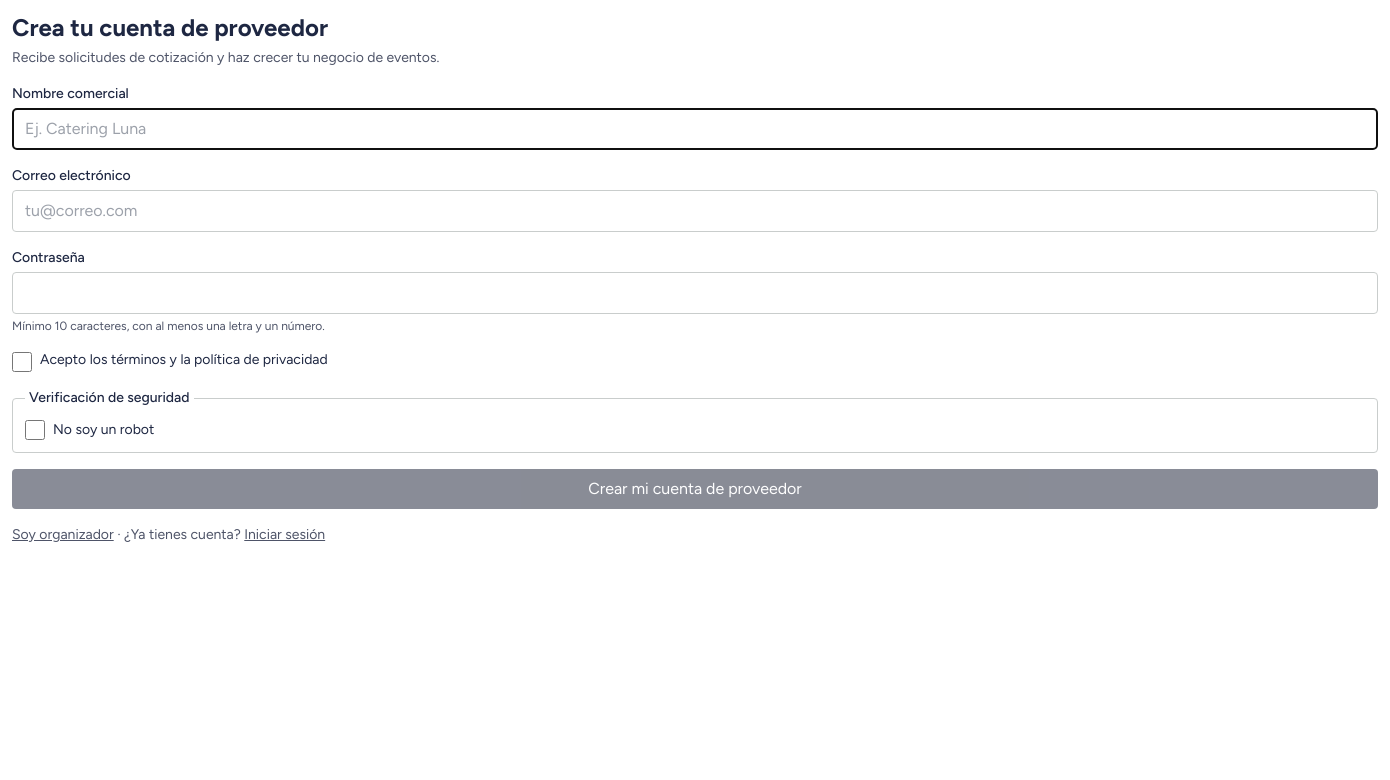
Test: US-002 FE-002/FE-003/FE-004 — flujo vendor › EC-01/SEC-001: 409 EMAIL_TAKEN → mismo mensaje neutro que el flujo organizer
The image size is (1390, 780).
Type "Catering Luna" into the field labelled "Nombre comercial" at (695, 129), box [12,108,1378,150]
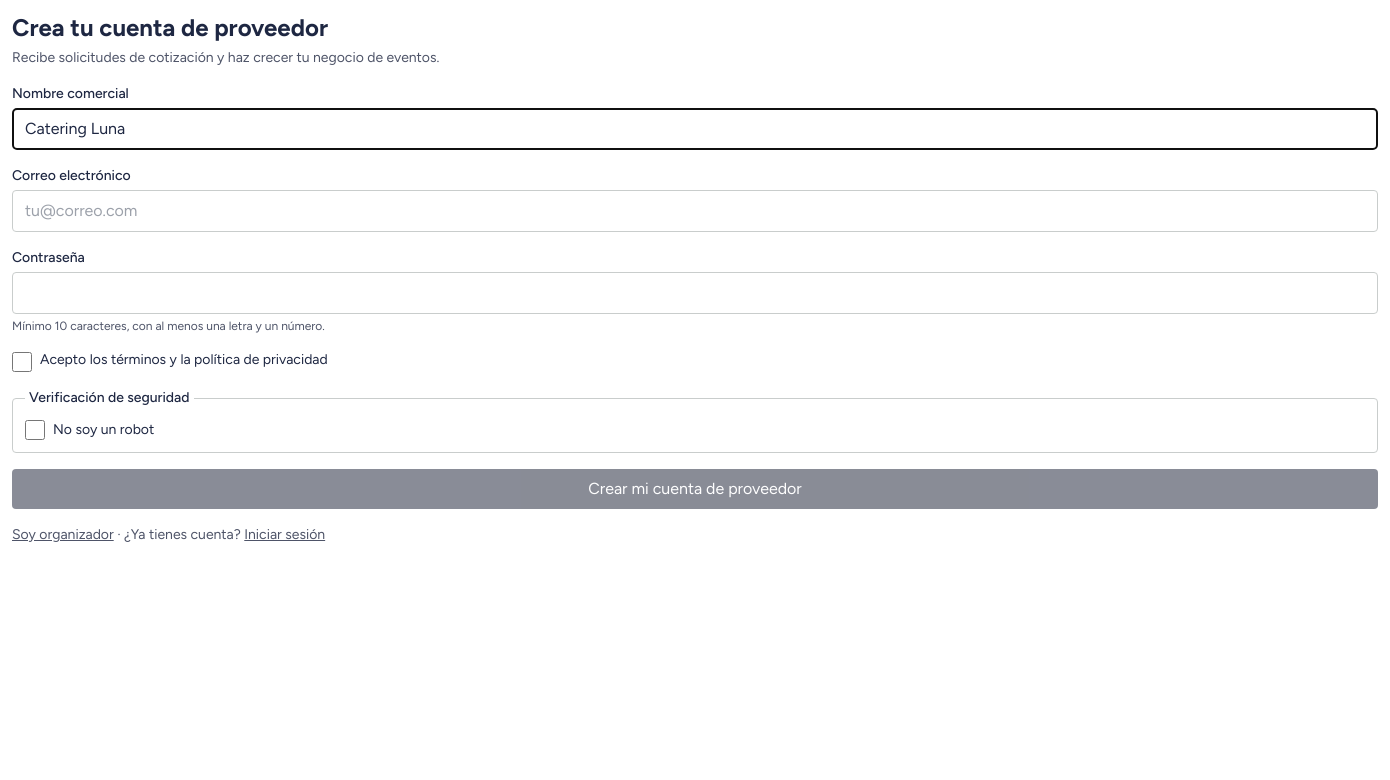
Type "luna@eventflow.test" into the field labelled "Correo electrónico" at (695, 211), box [12,190,1378,232]
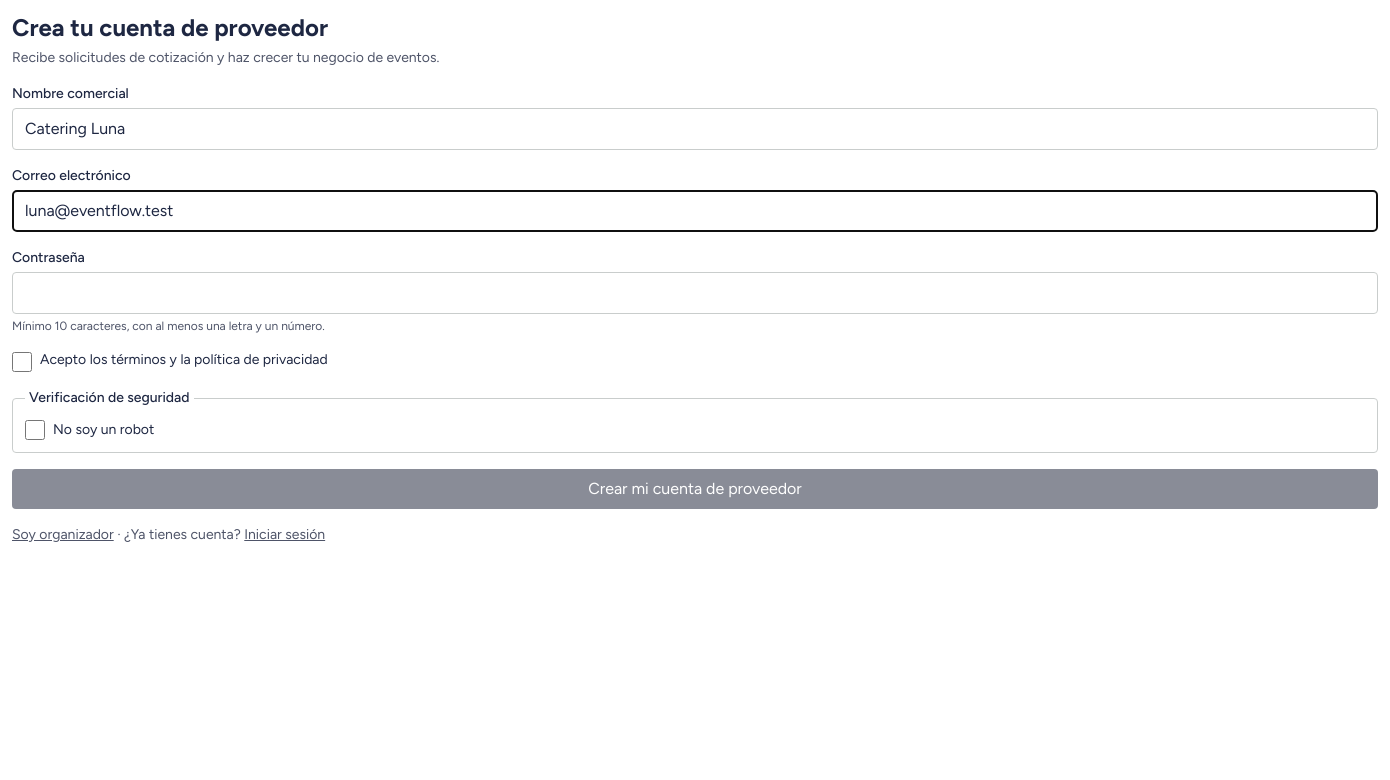
Type "segura12345" into the password field labelled "Contraseña" at (695, 293), box [12,272,1378,314]
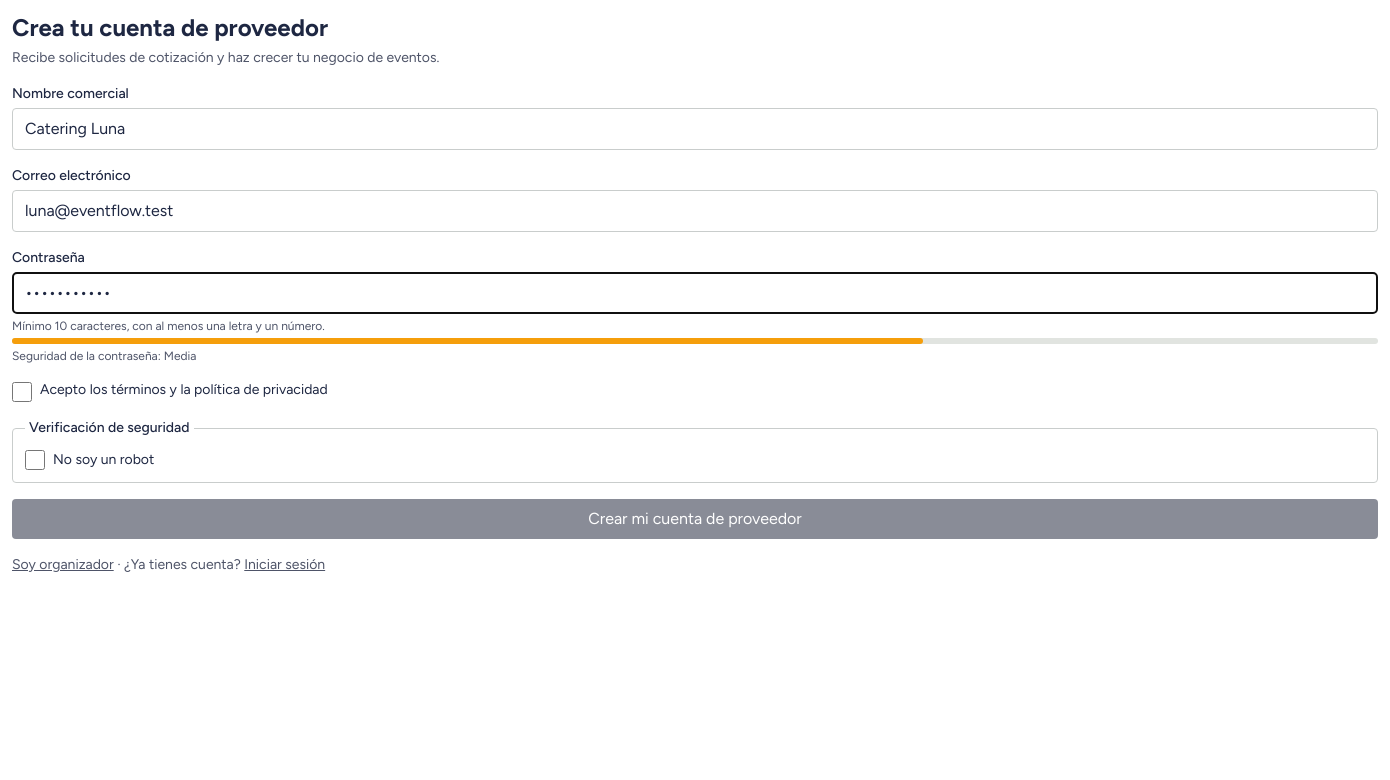
Click the checkbox labelled "Acepto los términos y la política de privacidad" at (22, 392), box [12,382,32,402]
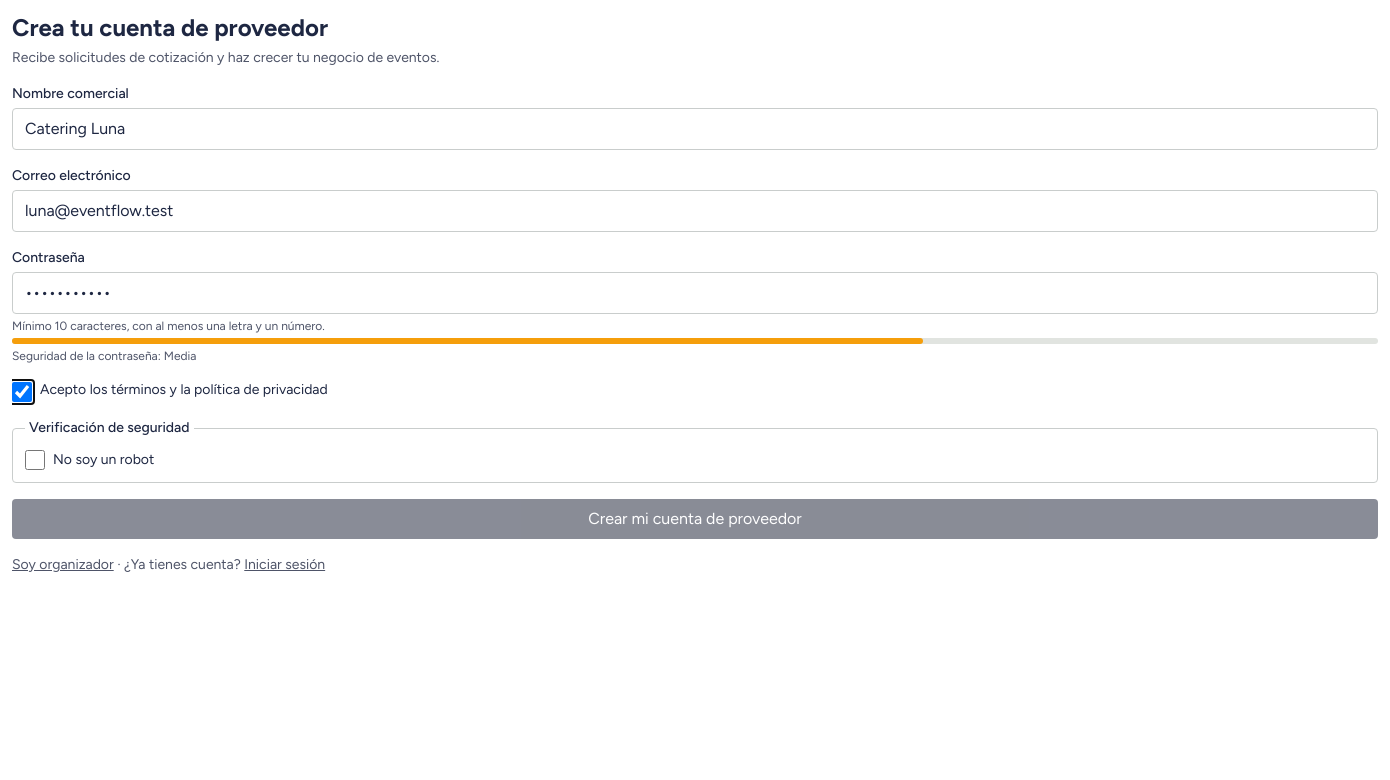
Click the checkbox labelled "No soy un robot" at (35, 460), box [25,450,45,470]
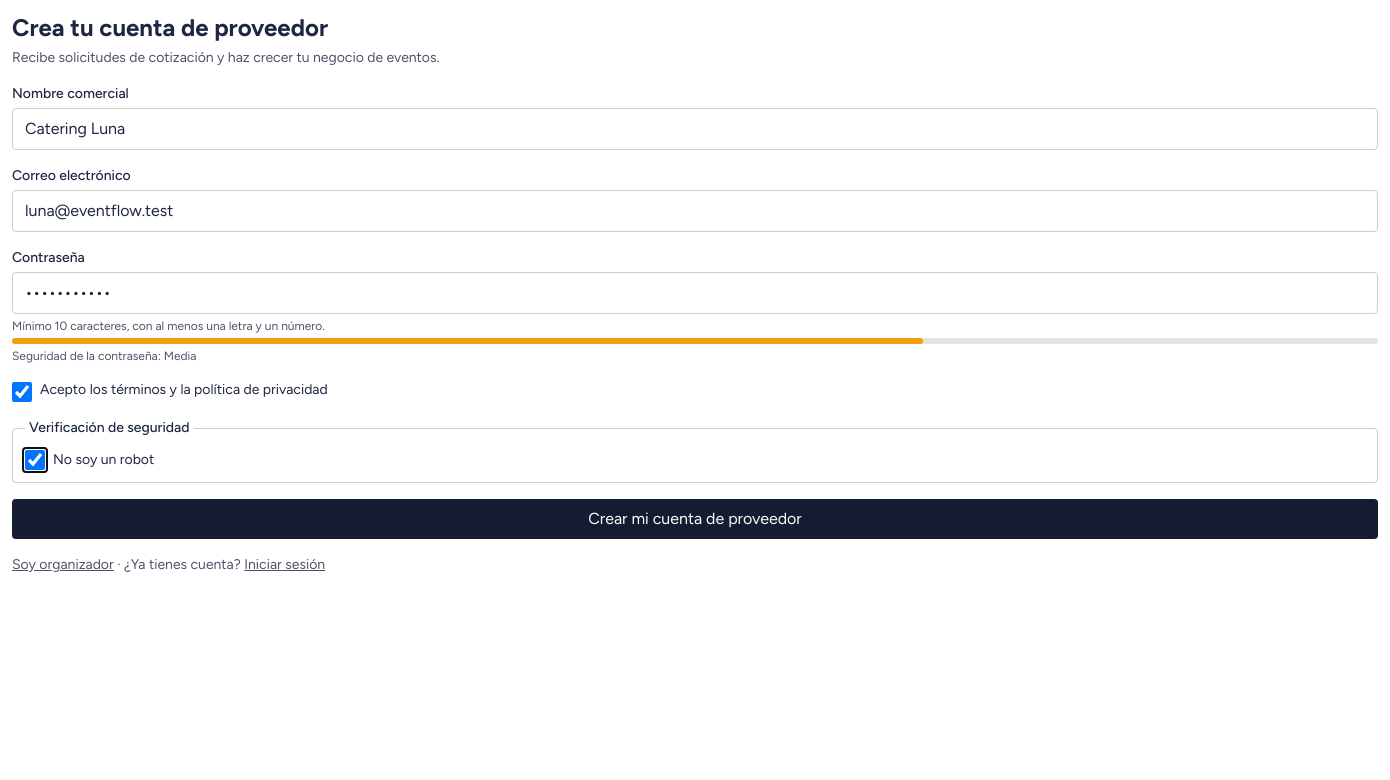
Click the button "Crear mi cuenta de proveedor" at (695, 519), box [12,499,1378,539]
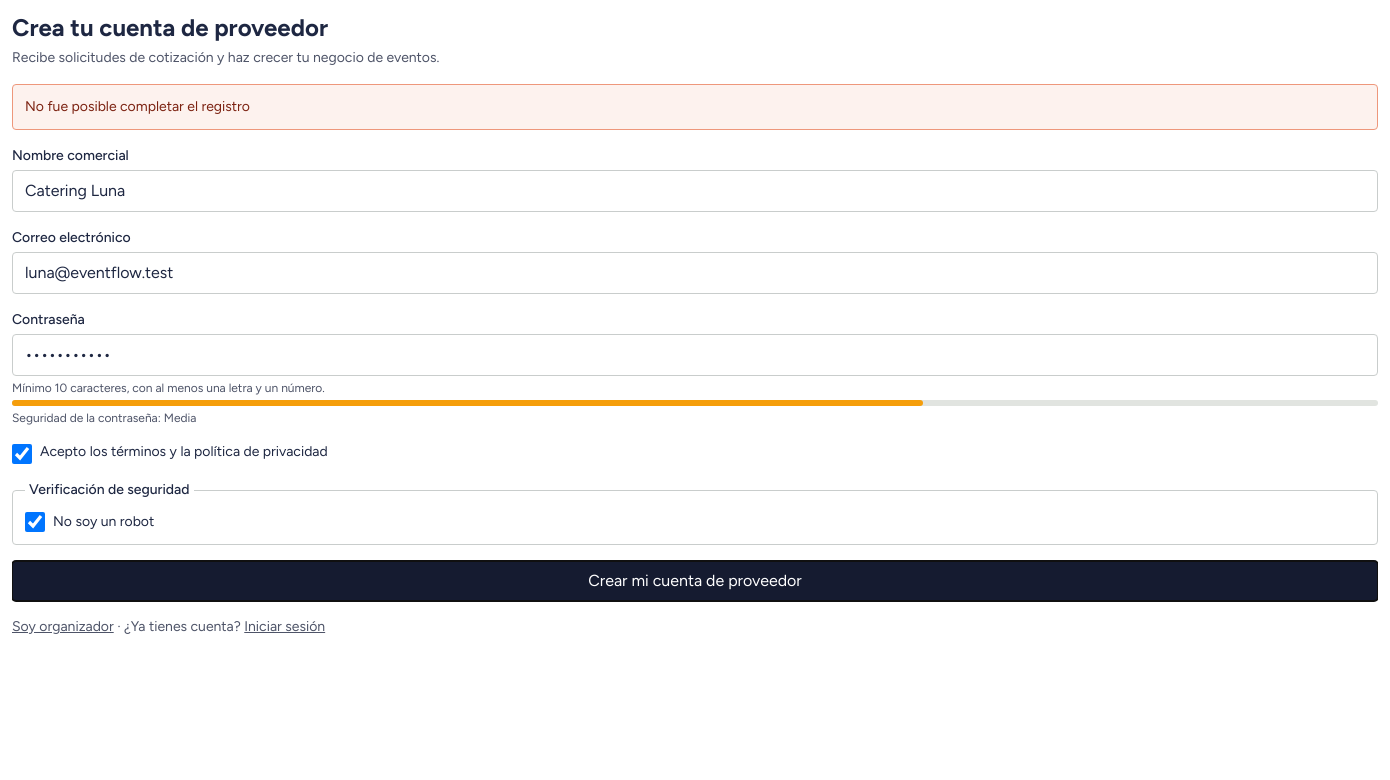
Now the message reads "No fue posible completar el registro", box [25,98,250,115]
